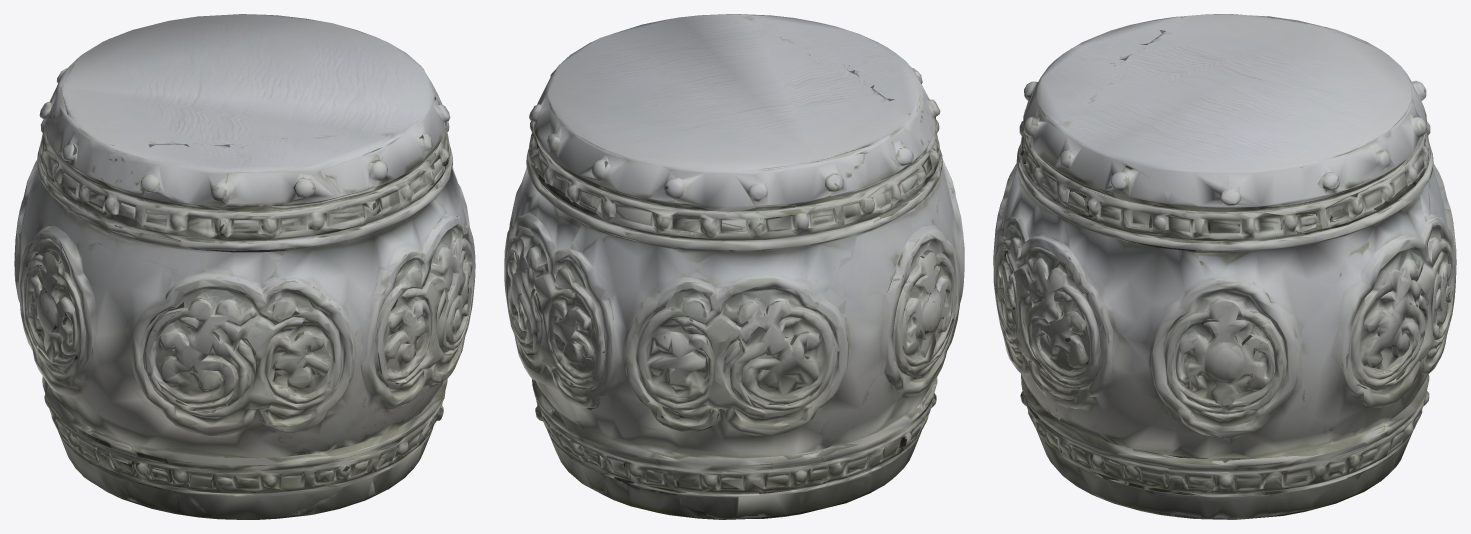
The model's file is stoneStool-compressed.glb.
The picture shows the model from 3 angles, left to right: view 1: azimuth 30°, elevation 25°; view 2: azimuth 150°, elevation 25°; view 3: azimuth 270°, elevation 25°; orthographic projection.
Visible parts, largest first — view 1: node_0; view 2: node_0; view 3: node_0.
Part boxes in pixels (x1=…): node_0: x1=14, y1=14, x2=475, y2=519; node_0: x1=504, y1=14, x2=964, y2=519; node_0: x1=993, y1=14, x2=1456, y2=519.
Bounding box in the file's own units: 0.5403 × 0.4499 × 0.5341.
1 material, 1 textured.
